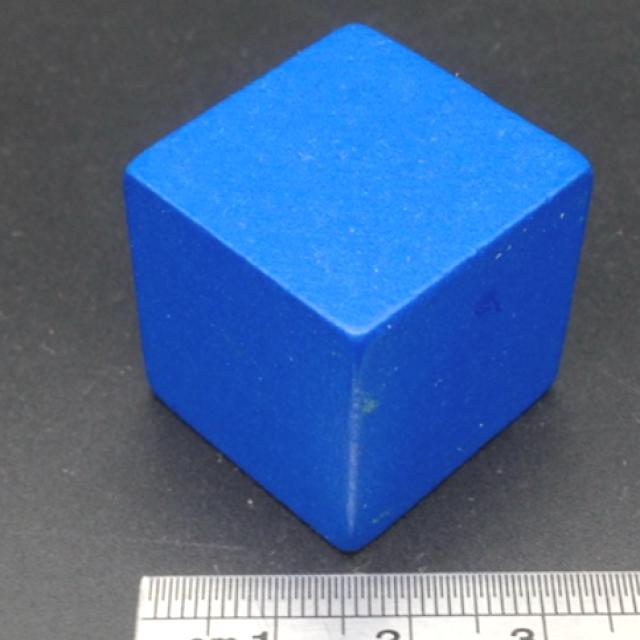bluecube: (120, 23, 595, 557)
